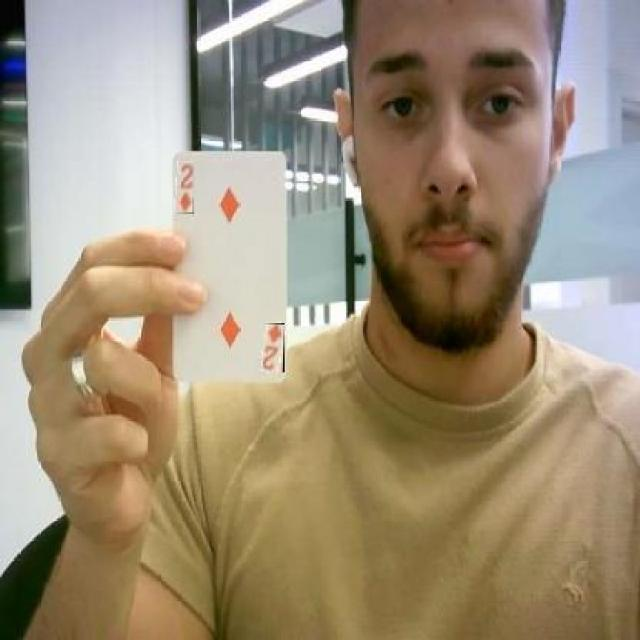2D: (174, 160, 194, 214), (263, 323, 285, 372)
